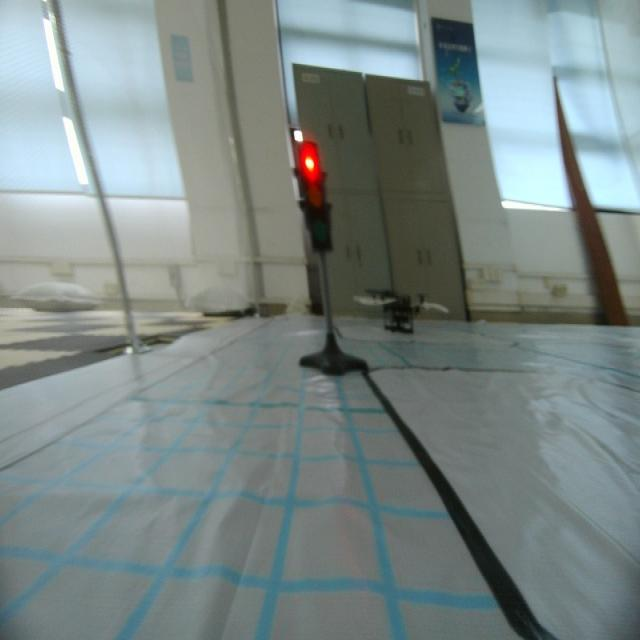red: (288, 134, 337, 262)
